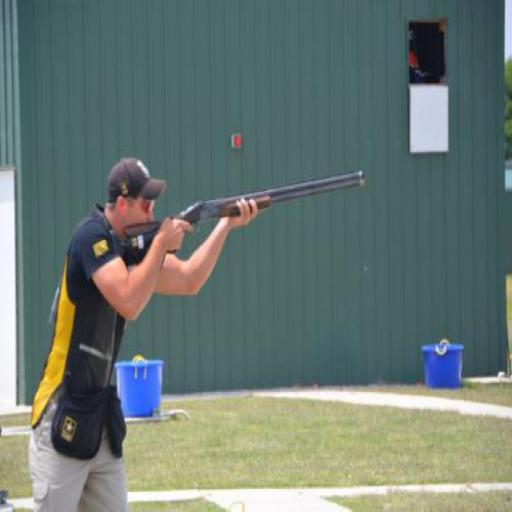shooting: (27, 154, 264, 510)
